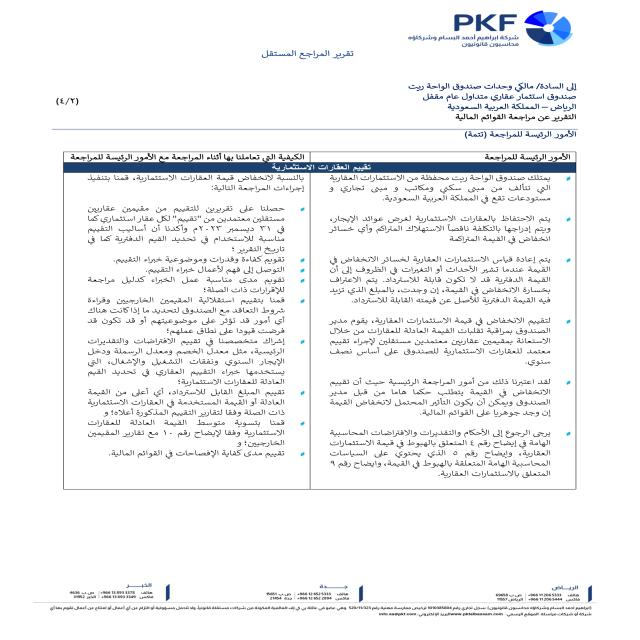auditor_report: (456, 127, 582, 144), (250, 45, 366, 62)
